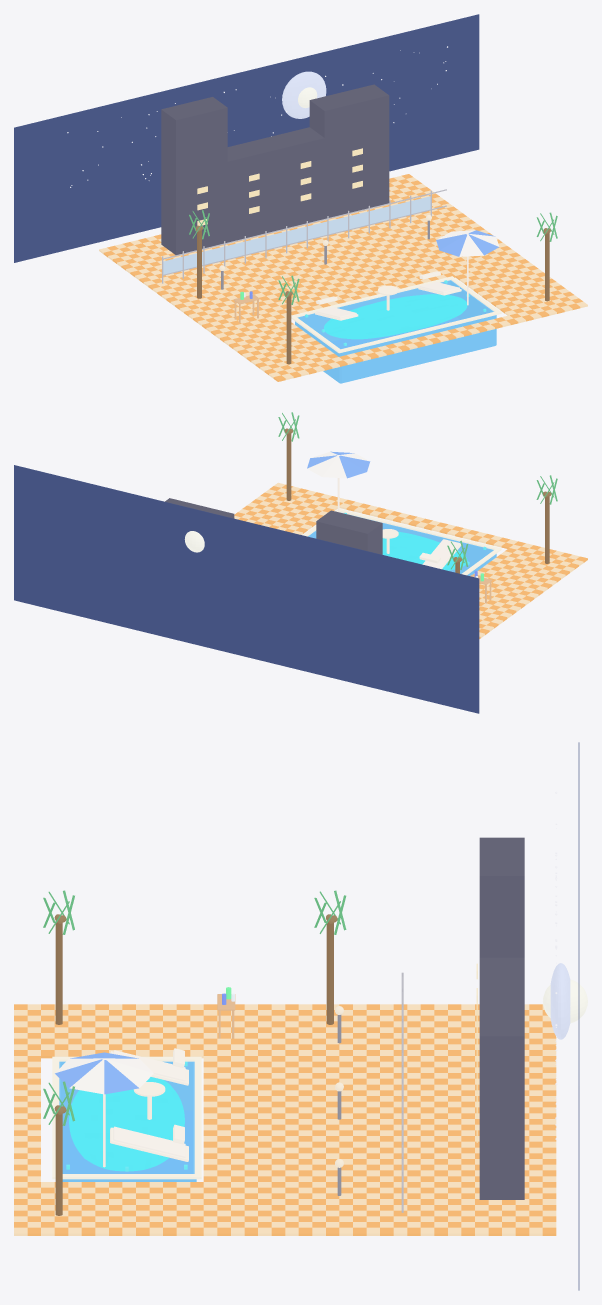
Rendered from swimming-pool.glb.
3 renders of one model, top to bottom at view 1: azimuth 30°, elevation 25°; view 2: azimuth 150°, elevation 25°; view 3: azimuth 270°, elevation 25°, orthographic. The views are drawn at different scales.
Visible parts, largest first — view 1: Sky, HotelBase, HotelTower1, HotelTower2, Water, PoolWall_Front, UmbrellaCanopy, Halo, PoolWall_Back, Coping_F, PoolWall_Right, Coping_B (+3 smaller); view 2: Sky, HotelTower1, Water, UmbrellaCanopy, PoolWall_Front, Coping_F, LoungerCushion0, PalmTrunk.001; view 3: HotelTower2, Water, HotelTower1, UmbrellaCanopy, PoolFloor, HotelBase, Halo, Sky, LoungerCushion1, Coping_B, PalmTrunk, PalmTrunk.001 (+4 smaller).
Boxes of the visible parts, left/top/right/bottom form: Sky: left=14, top=14, right=479, bottom=262; HotelBase: left=161, top=124, right=382, bottom=254; HotelTower1: left=161, top=97, right=227, bottom=254; HotelTower2: left=309, top=84, right=389, bottom=218; Water: left=324, top=294, right=467, bottom=339; PoolWall_Front: left=340, top=315, right=496, bottom=383; UmbrellaCanopy: left=436, top=230, right=499, bottom=256; Halo: left=282, top=71, right=326, bottom=118; PoolWall_Back: left=297, top=280, right=450, bottom=341; Coping_F: left=336, top=310, right=501, bottom=353; PoolWall_Right: left=450, top=280, right=496, bottom=344; Coping_B: left=291, top=276, right=454, bottom=318; Sky: left=14, top=465, right=479, bottom=713; HotelTower1: left=316, top=510, right=382, bottom=554; Water: left=382, top=529, right=467, bottom=570; UmbrellaCanopy: left=307, top=451, right=370, bottom=478; PoolWall_Front: left=342, top=513, right=493, bottom=573; Coping_F: left=337, top=509, right=501, bottom=551; LoungerCushion0: left=422, top=539, right=459, bottom=568; PalmTrunk.001: left=286, top=433, right=291, bottom=500; HotelTower2: left=479, top=988, right=524, bottom=1199; Water: left=69, top=1077, right=184, bottom=1171; HotelTower1: left=479, top=837, right=524, bottom=957; UmbrellaCanopy: left=55, top=1052, right=153, bottom=1094; PoolFloor: left=62, top=1110, right=192, bottom=1173; HotelBase: left=479, top=957, right=524, bottom=988; Halo: left=550, top=963, right=570, bottom=1039; Sky: left=578, top=742, right=579, bottom=1290; LoungerCushion1: left=113, top=1126, right=185, bottom=1157; Coping_B: left=194, top=1056, right=201, bottom=1179; PalmTrunk: left=55, top=920, right=62, bottom=1024; PalmTrunk.001: left=55, top=1111, right=62, bottom=1215.
Bounding box in the file's own units: 18 × 6.23 × 12.7.
